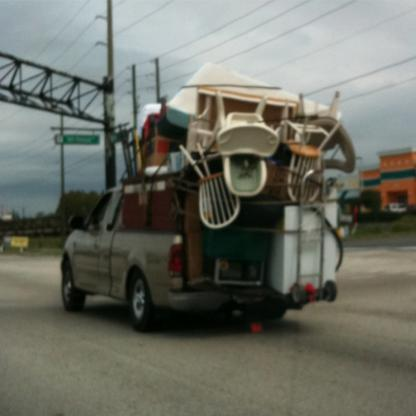overloaded-truck: (135, 65, 346, 306)
